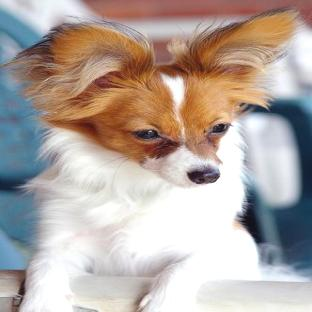Animal: (5, 8, 300, 311)
